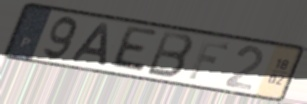2: (222, 44, 266, 93)
9: (41, 15, 79, 61)
A: (69, 22, 110, 68)
B: (144, 29, 196, 80)
E: (107, 24, 161, 75)
F: (185, 38, 232, 82)
